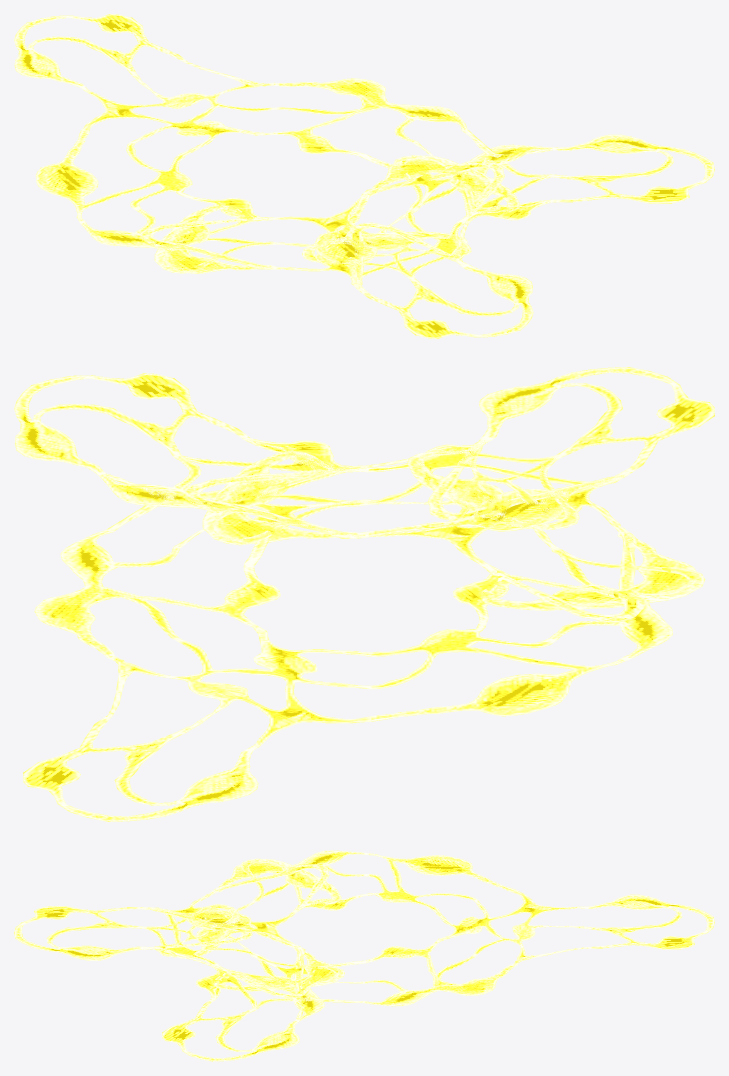
The model's file is fungalyellow.dae.
3 views of the same model, one above another, from view 1: azimuth 30°, elevation 25°; view 2: azimuth 150°, elevation 25°; view 3: azimuth 270°, elevation 25° (orthographic). The views are drawn at different scales.
Visible parts, largest first — view 1: Y4, Y3, Y2, Y1; view 2: Y4, Y3, Y2, Y1; view 3: Y4, Y3, Y2, Y1.
Part boxes in pixels (box(x1,y1,x2,y2)): Y4: box(14, 14, 692, 338); Y3: box(139, 134, 714, 336); Y2: box(315, 155, 533, 338); Y1: box(302, 222, 532, 338); Y4: box(23, 376, 714, 821); Y3: box(14, 368, 709, 622); Y2: box(183, 367, 713, 545); Y1: box(407, 367, 714, 529); Y4: box(17, 850, 714, 1051); Y3: box(14, 858, 341, 1061); Y2: box(15, 906, 344, 998); Y1: box(14, 904, 252, 960).
Size of the model in its own units: 1.96 by 0 by 2.75.
